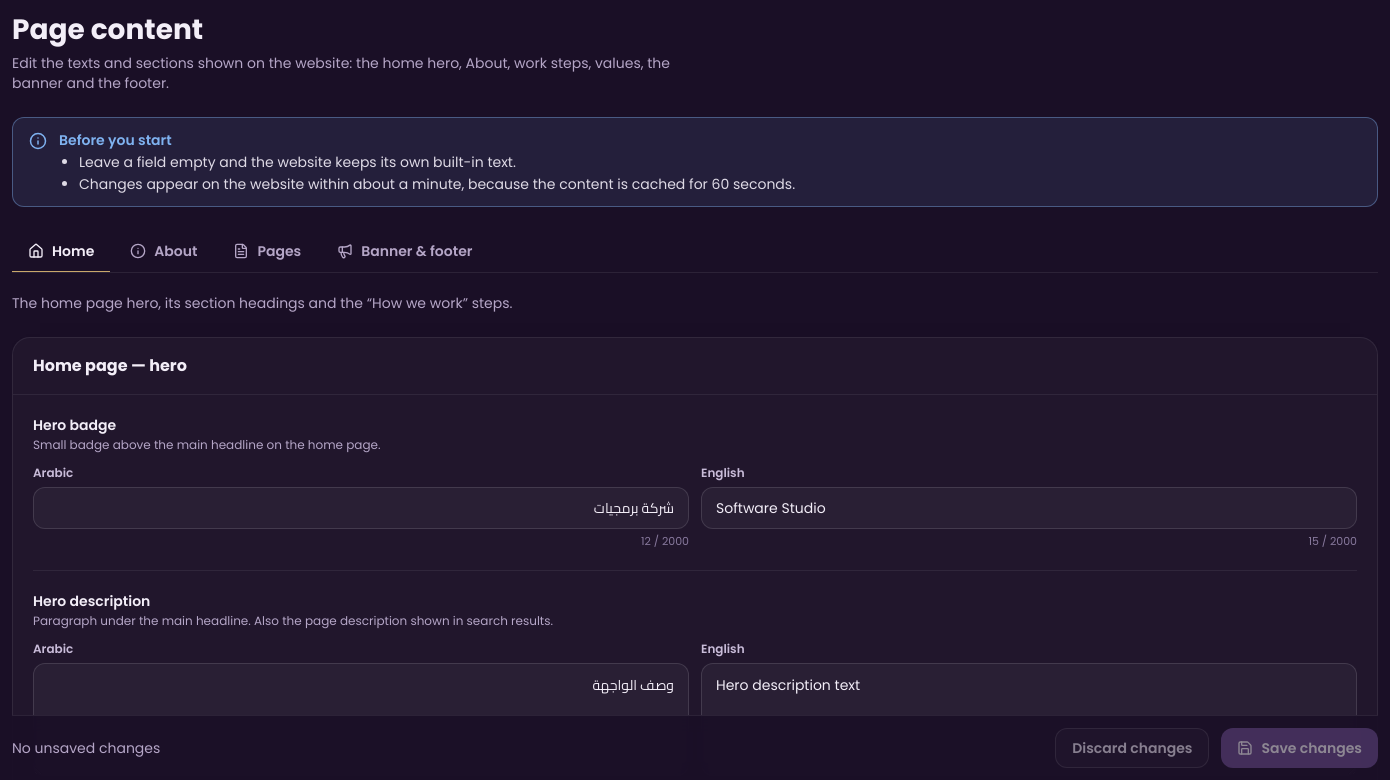
Test: PageContent — the texts › keeps every tab mounted: fields of closed tabs exist and typed values survive switching tabs
Expected: the tab "Home" is shown, [12, 231, 110, 273]
Type "!" into the field named "Hero badge (English)". click: (1029, 508)
box: [701, 487, 1357, 529]
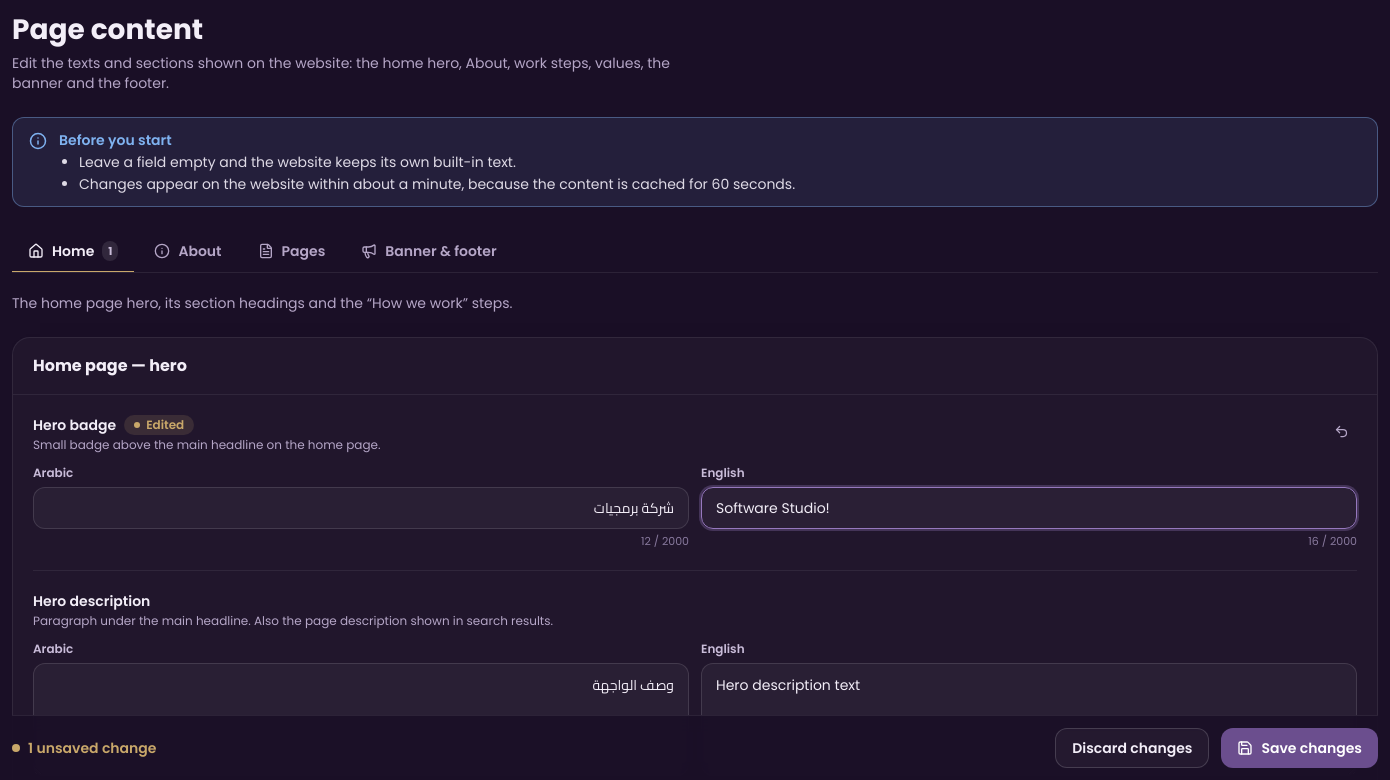
Click the tab "About". click: (188, 252)
box: [138, 231, 238, 273]
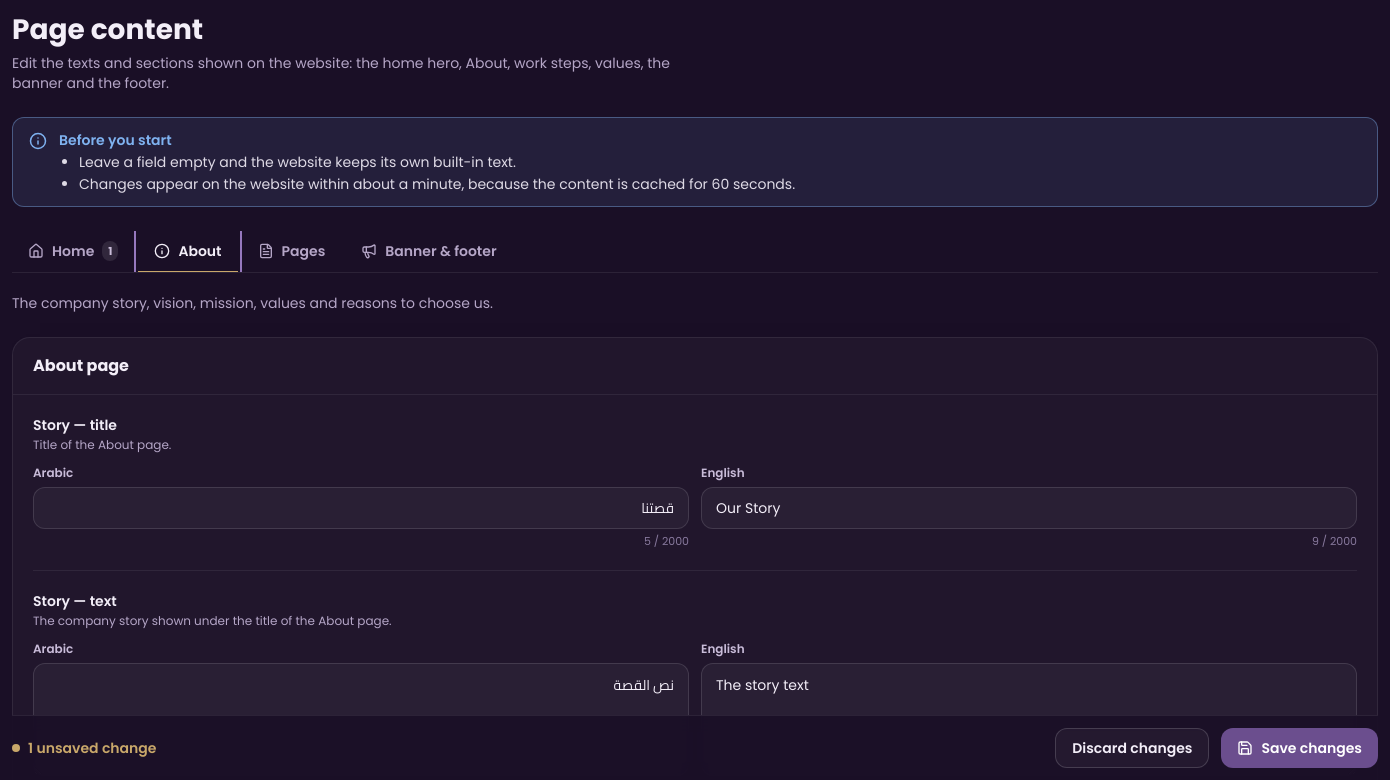
Expected: the field named "Story — title (English)" is shown, [701, 487, 1357, 529]
Click the tab "Home 1". click: (73, 252)
box: [12, 231, 134, 273]
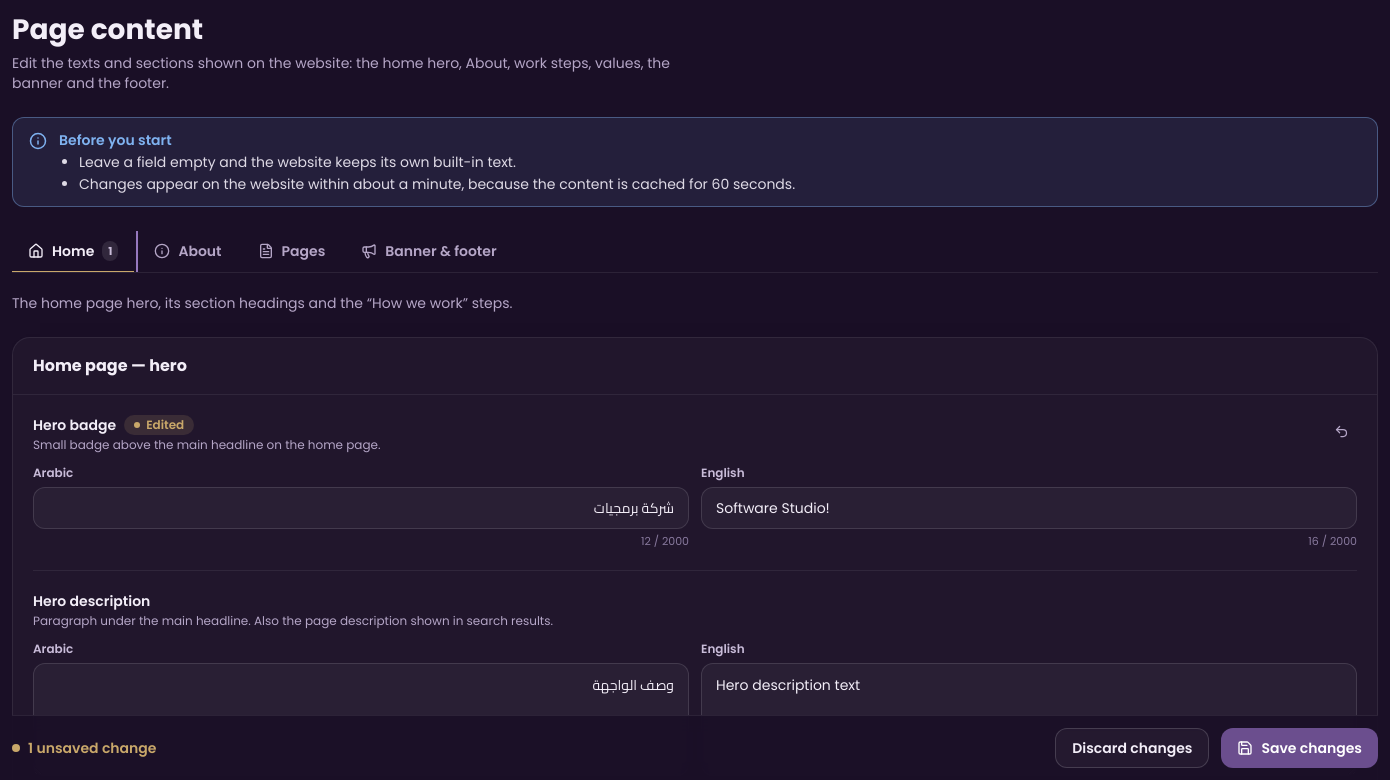
Expected: the field named "Hero badge (English)" holds "Software Studio!", [701, 487, 1357, 529]
